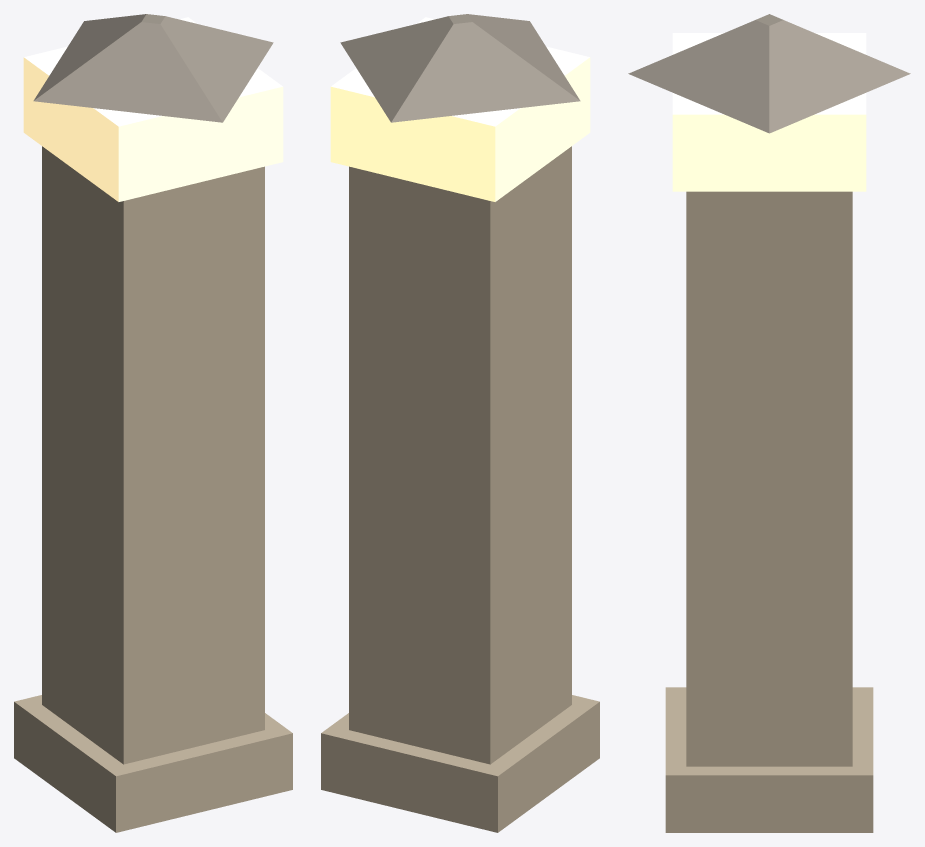
Rendered from stone_wall_gate_pillar.fbx.
3 views of the same model, side by side, from view 1: azimuth 30°, elevation 25°; view 2: azimuth 150°, elevation 25°; view 3: azimuth 270°, elevation 25° (orthographic).
Visible parts, largest first — view 1: stone_wall_gate_pillar; view 2: stone_wall_gate_pillar; view 3: stone_wall_gate_pillar.
Part boxes in pixels (box(x1,y1,x2,y2)): stone_wall_gate_pillar: box(14, 14, 292, 832); stone_wall_gate_pillar: box(321, 14, 599, 832); stone_wall_gate_pillar: box(628, 14, 910, 832).
Size of the model in its own units: 2 by 6 by 2.
